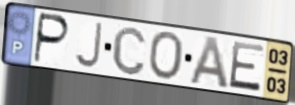A: (187, 34, 231, 90)
C: (110, 24, 148, 77)
E: (227, 40, 267, 94)
J: (73, 20, 104, 69)
O: (147, 30, 186, 81)
P: (32, 11, 72, 66)
